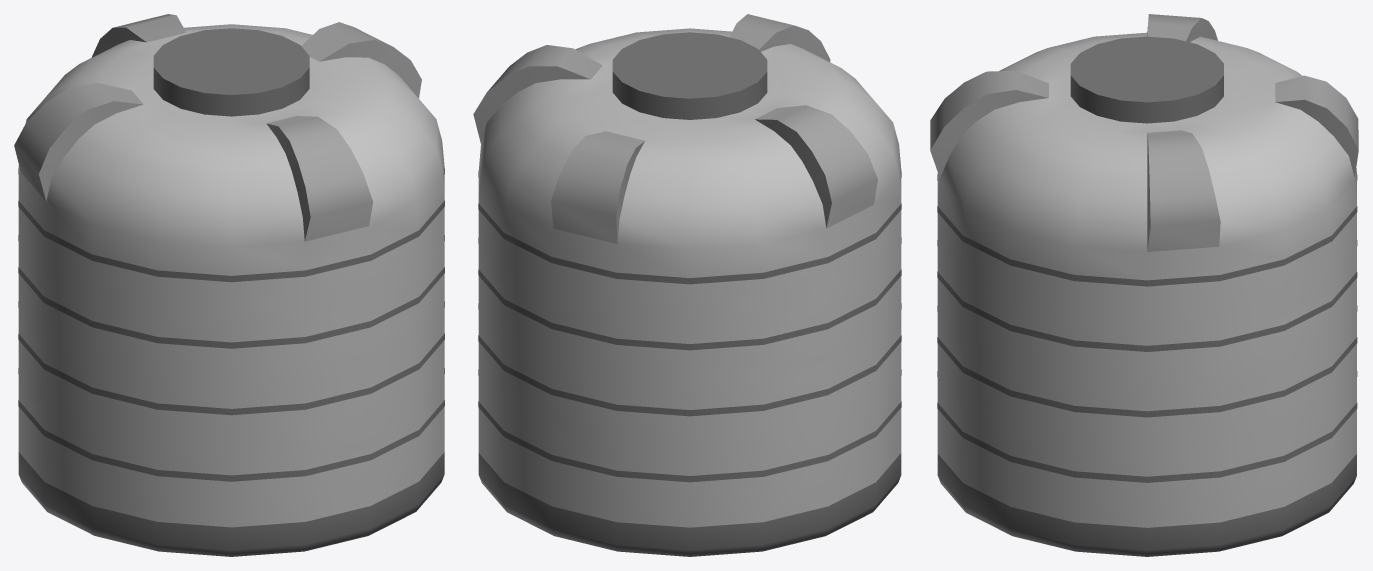
The model's file is Water Tanker 2.FBX.
3 views of the same model, side by side, from view 1: azimuth 30°, elevation 25°; view 2: azimuth 150°, elevation 25°; view 3: azimuth 270°, elevation 25° (orthographic).
Parts seen in each view (by area): view 1: Big_Watertank; view 2: Big_Watertank; view 3: Big_Watertank.
Boxes of the visible parts, bbox=[...] form: Big_Watertank: bbox=[14, 14, 444, 556]; Big_Watertank: bbox=[473, 14, 901, 556]; Big_Watertank: bbox=[930, 14, 1358, 556].
Bounding box in the file's own units: 292 × 297 × 288.
